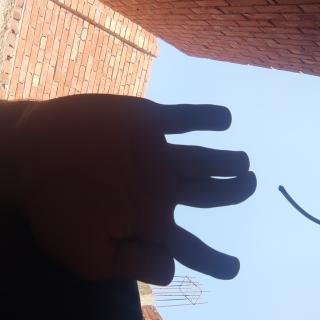SHEEN: (57, 83, 227, 320)
